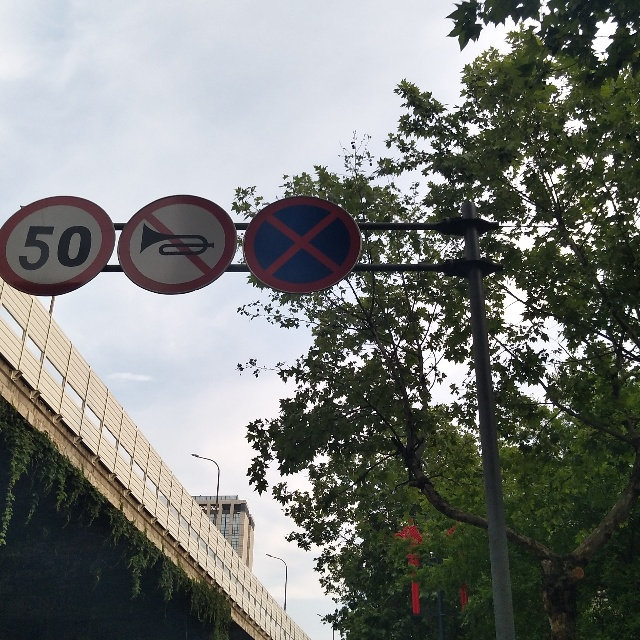nohonk: (118, 194, 238, 296)
stop: (243, 195, 362, 295)
